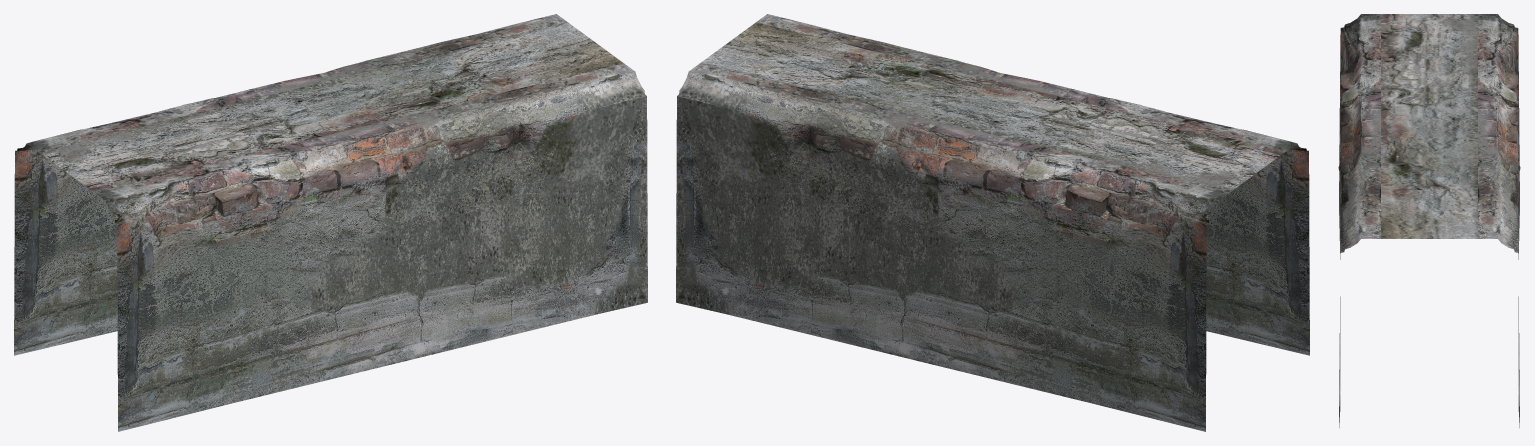
Rendered from SM_ChapelWall_05_04.fbx.
3 views of the same model, side by side, from view 1: azimuth 30°, elevation 25°; view 2: azimuth 150°, elevation 25°; view 3: azimuth 270°, elevation 25° (orthographic). The views are drawn at different scales.
Parts seen in each view (by area): view 1: sm_ChapelWall_05_04_LOD0; view 2: sm_ChapelWall_05_04_LOD0; view 3: sm_ChapelWall_05_04_LOD0.
Boxes of the visible parts, x1,y1,x2,y2 form: sm_ChapelWall_05_04_LOD0: (14, 14, 647, 431); sm_ChapelWall_05_04_LOD0: (676, 14, 1309, 431); sm_ChapelWall_05_04_LOD0: (1338, 14, 1520, 427).
Bounding box in the file's own units: 85.5 × 250 × 100.
